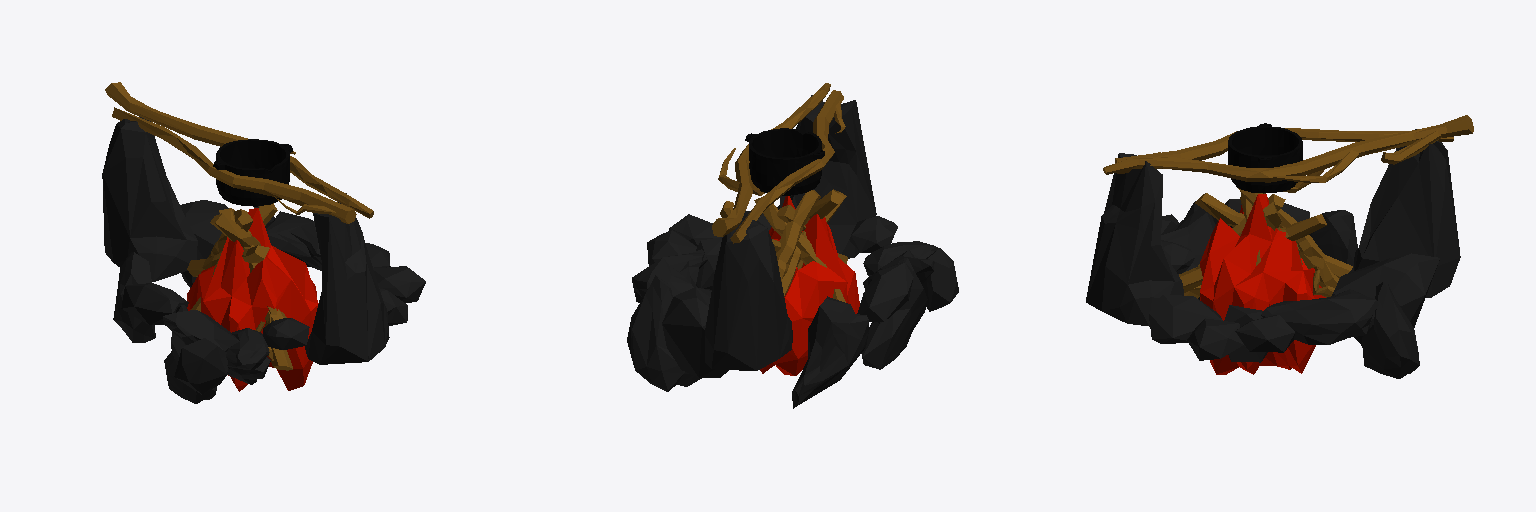
File: firecamp.obj
3 renders of one model, left to right at view 1: azimuth 30°, elevation 25°; view 2: azimuth 150°, elevation 25°; view 3: azimuth 270°, elevation 25°, orthographic.
Visible parts, largest first — view 1: rock.002, fire, rock.003, tree.008, cauldron, tree, rock.005, rock.006, rock.013, rock.008, rock.009, rock.012 (+8 smaller); view 2: rock.002, rock.003, fire, rock.009, rock, cauldron, rock.012, rock.001, tree, tree.008, rock.008, rock.013 (+9 smaller); view 3: rock.003, fire, rock.002, tree, rock.013, rock.012, rock, cauldron, rock.004, tree.008, rock.009, rock.010 (+7 smaller).
Boxes of the visible parts, x1=… form: rock.002: x1=102, y1=116, x2=197, y2=281; fire: x1=187, y1=208, x2=318, y2=391; rock.003: x1=305, y1=193, x2=389, y2=364; tree.008: x1=112, y1=107, x2=356, y2=223; cauldron: x1=213, y1=139, x2=292, y2=206; tree: x1=105, y1=82, x2=373, y2=218; rock.005: x1=163, y1=310, x2=270, y2=384; rock.006: x1=174, y1=338, x2=227, y2=394; rock.013: x1=265, y1=211, x2=321, y2=270; rock.008: x1=121, y1=283, x2=188, y2=324; rock.009: x1=113, y1=252, x2=155, y2=342; rock.012: x1=180, y1=200, x2=228, y2=287; rock.002: x1=705, y1=220, x2=792, y2=370; rock.003: x1=777, y1=95, x2=876, y2=258; fire: x1=760, y1=196, x2=859, y2=375; rock.009: x1=792, y1=296, x2=868, y2=408; rock: x1=627, y1=275, x2=701, y2=391; cauldron: x1=745, y1=128, x2=824, y2=195; rock.012: x1=662, y1=287, x2=728, y2=377; rock.001: x1=861, y1=258, x2=927, y2=369; tree: x1=712, y1=83, x2=830, y2=236; tree.008: x1=730, y1=90, x2=845, y2=243; rock.008: x1=857, y1=262, x2=913, y2=321; rock.013: x1=632, y1=249, x2=707, y2=302; rock.003: x1=1086, y1=153, x2=1183, y2=326; fire: x1=1200, y1=194, x2=1325, y2=374; rock.002: x1=1354, y1=129, x2=1460, y2=297; tree: x1=1103, y1=115, x2=1473, y2=193; rock.013: x1=1261, y1=289, x2=1378, y2=344; rock.012: x1=1332, y1=253, x2=1439, y2=345; rock: x1=1362, y1=281, x2=1419, y2=378; cauldron: x1=1228, y1=123, x2=1302, y2=192; rock.004: x1=1149, y1=294, x2=1222, y2=343; tree.008: x1=1115, y1=128, x2=1453, y2=173; rock.009: x1=1309, y1=210, x2=1357, y2=272; rock.010: x1=1187, y1=318, x2=1243, y2=360.
Size of the model in its own units: 4.04 by 3.4 by 5.14.